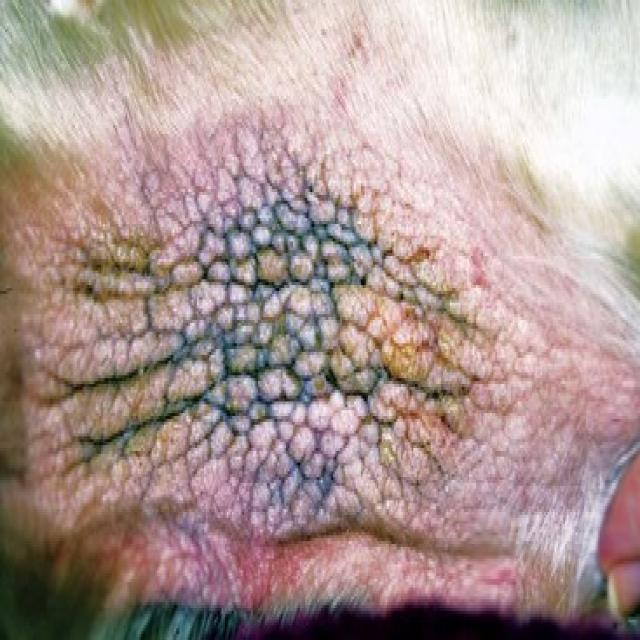fungal infection: (71, 187, 495, 465)
